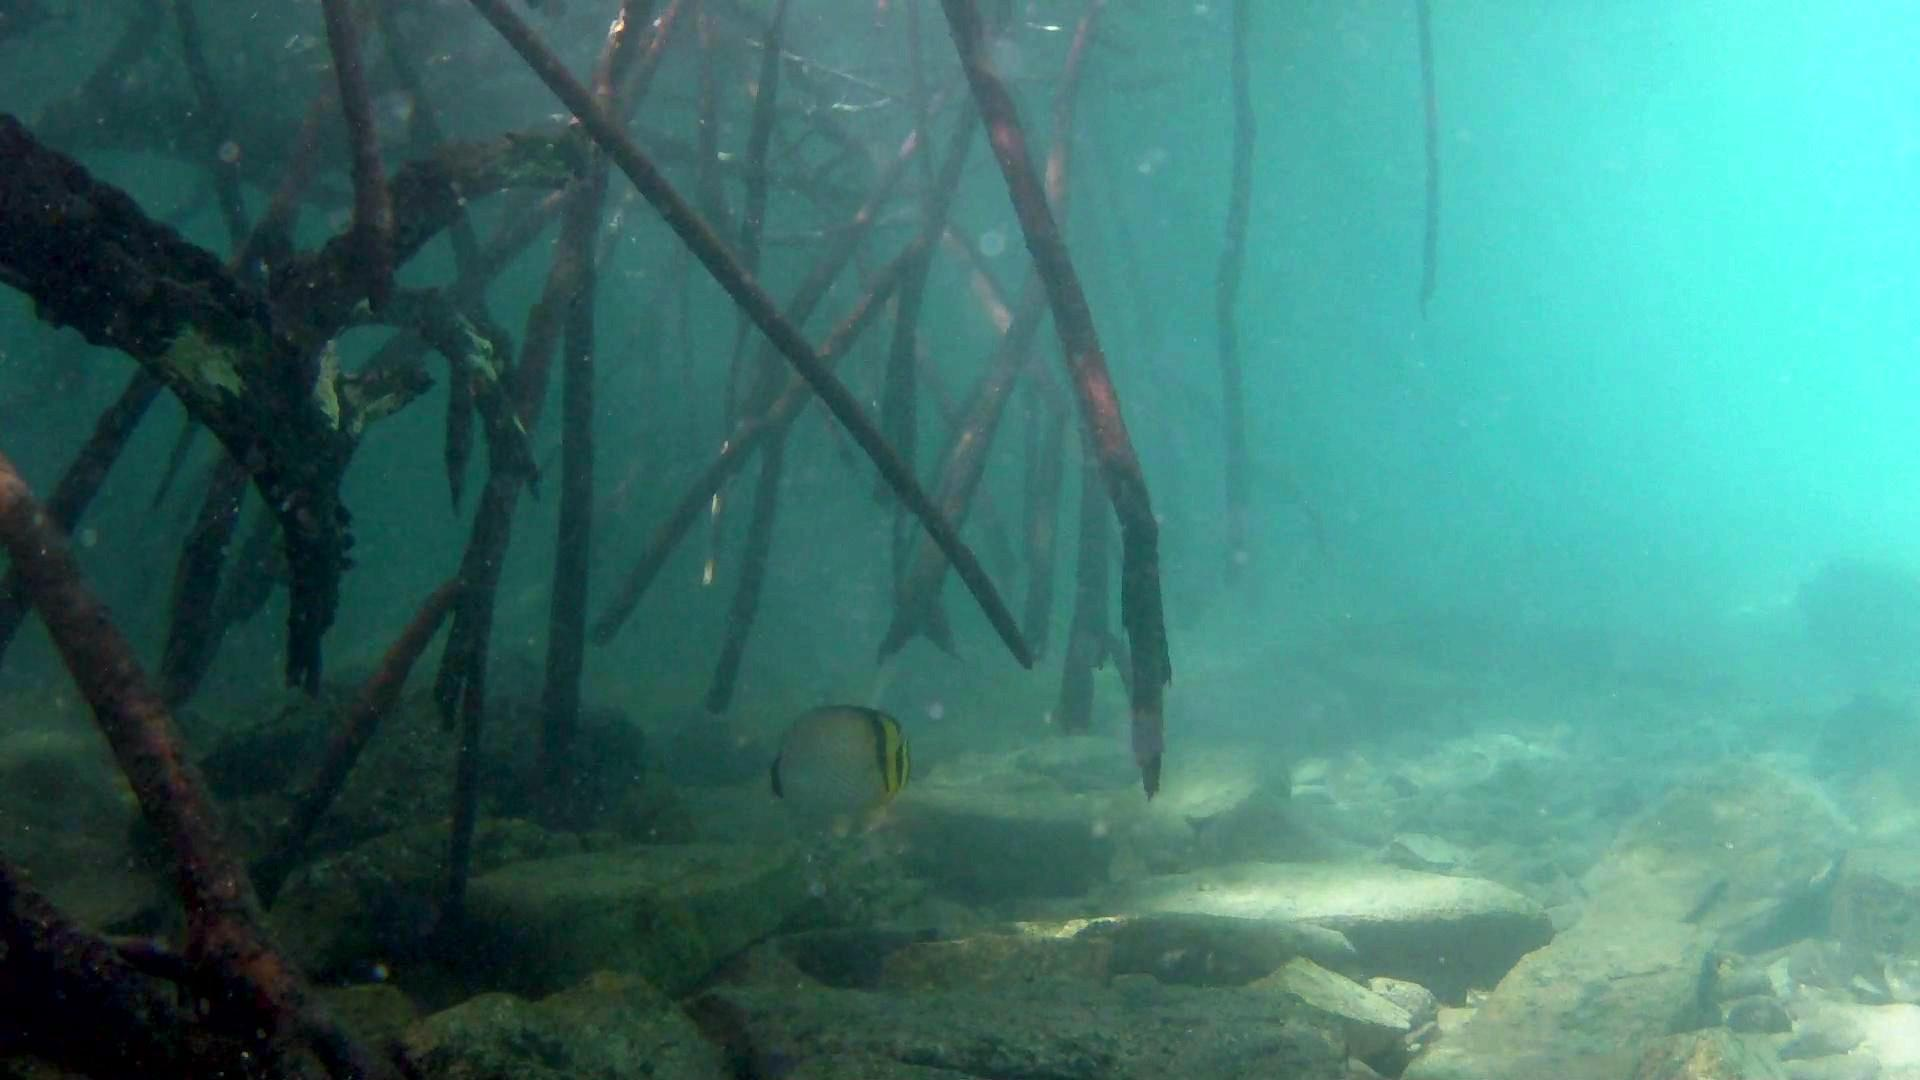chaetodon vagabundus: (750, 702, 915, 818)
